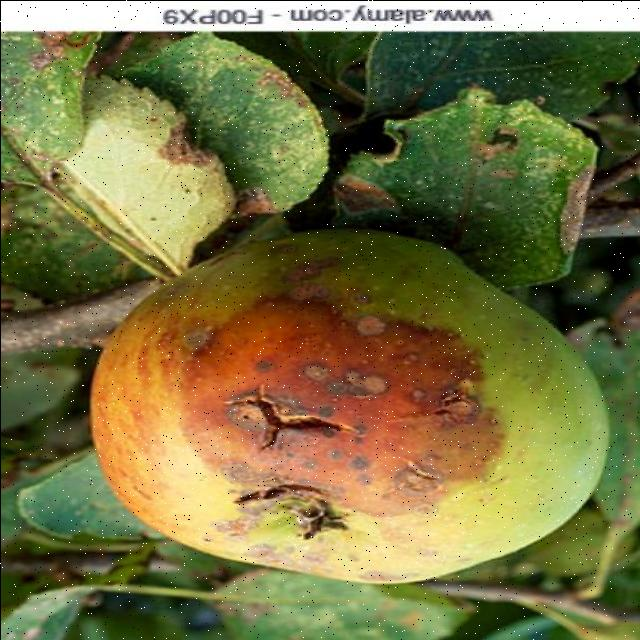ROT: (81, 219, 621, 620)
